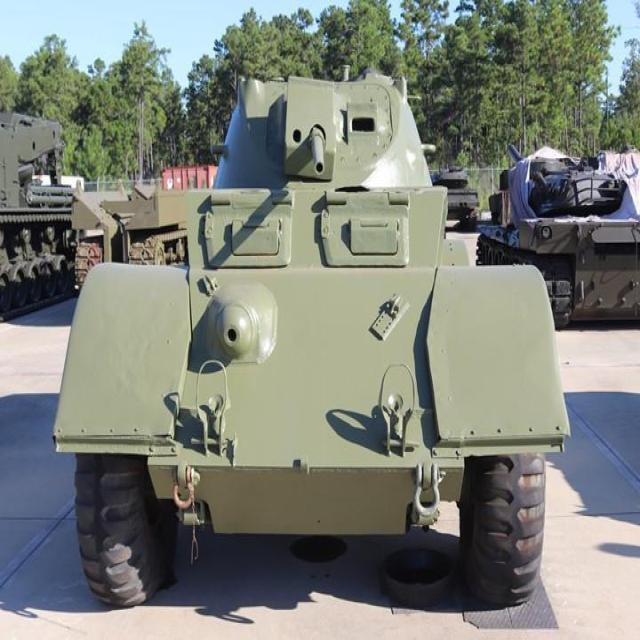MIL_MBT: (49, 65, 580, 582)
